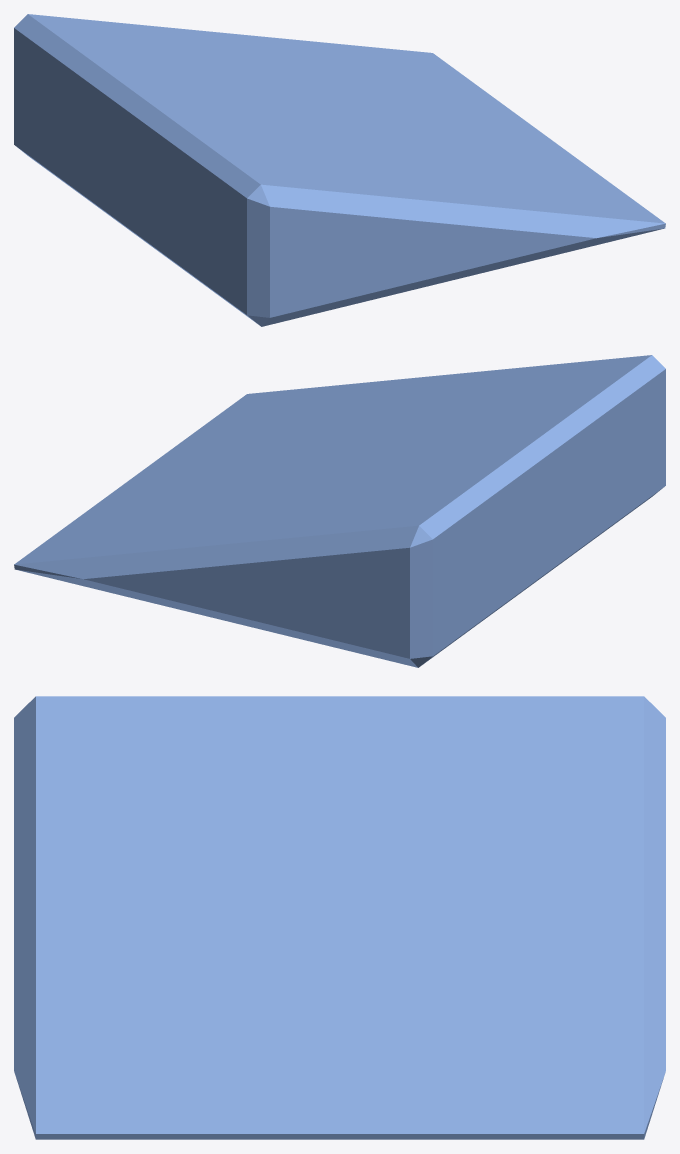
3 views of the same model, one above another, from view 1: azimuth 30°, elevation 25°; view 2: azimuth 150°, elevation 25°; view 3: azimuth 270°, elevation 25° (orthographic). The views are drawn at different scales.
Parts seen in each view (by area): view 1: Cube.019; view 2: Cube.019; view 3: Cube.019.
Boxes of the visible parts, x1,y1,x2,y2 form: Cube.019: [14, 14, 665, 326]; Cube.019: [14, 355, 665, 667]; Cube.019: [14, 696, 665, 1139].
Size of the model in its own units: 194 by 62.95 by 200.
